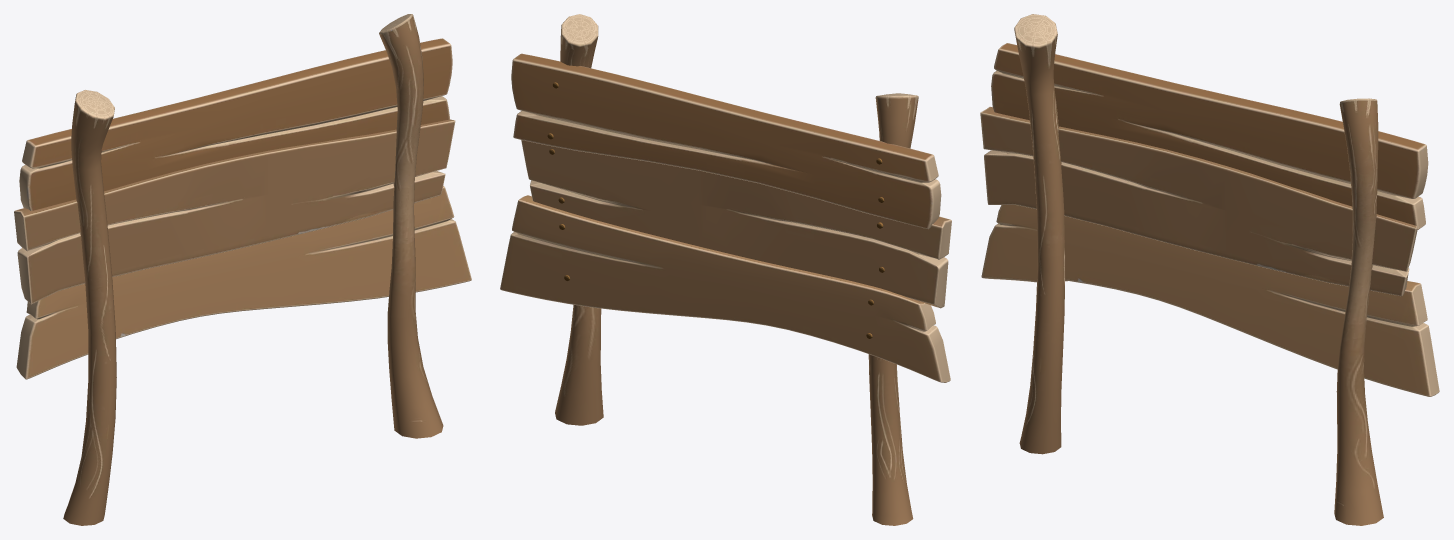
The model's file is message_board.glb.
The picture shows the model from 3 angles, left to right: view 1: azimuth 30°, elevation 25°; view 2: azimuth 150°, elevation 25°; view 3: azimuth 330°, elevation 25°; orthographic projection.
Parts seen in each view (by area): view 1: Planks, Poles; view 2: Planks, Poles; view 3: Planks, Poles.
Part boxes in pixels (x1=…): Planks: x1=14, y1=38, x2=471, y2=379; Poles: x1=63, y1=14, x2=443, y2=525; Planks: x1=500, y1=53, x2=951, y2=382; Poles: x1=555, y1=14, x2=918, y2=525; Planks: x1=980, y1=43, x2=1439, y2=396; Poles: x1=1014, y1=14, x2=1383, y2=525.
Size of the model in its own units: 2.95 by 2.67 by 0.4062.
2 materials, 2 textured.
